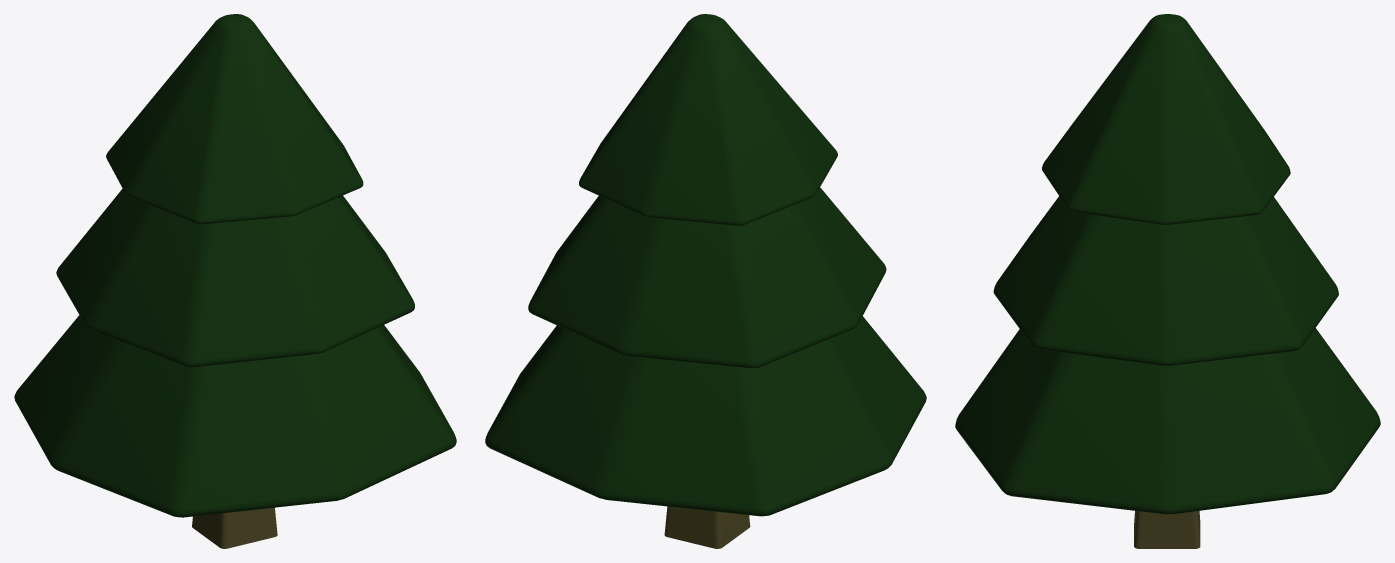
Rendered from Tanne1.fbx.
3 views of the same model, side by side, from view 1: azimuth 30°, elevation 25°; view 2: azimuth 150°, elevation 25°; view 3: azimuth 270°, elevation 25° (orthographic).
Visible parts, largest first — view 1: SM_Tanne_001; view 2: SM_Tanne_001; view 3: SM_Tanne_001.
Boxes of the visible parts, left/top/right/bottom form: SM_Tanne_001: left=14, top=14, right=456, bottom=548; SM_Tanne_001: left=485, top=14, right=926, bottom=548; SM_Tanne_001: left=955, top=14, right=1380, bottom=548.
Size of the model in its own units: 508 by 680 by 508.
